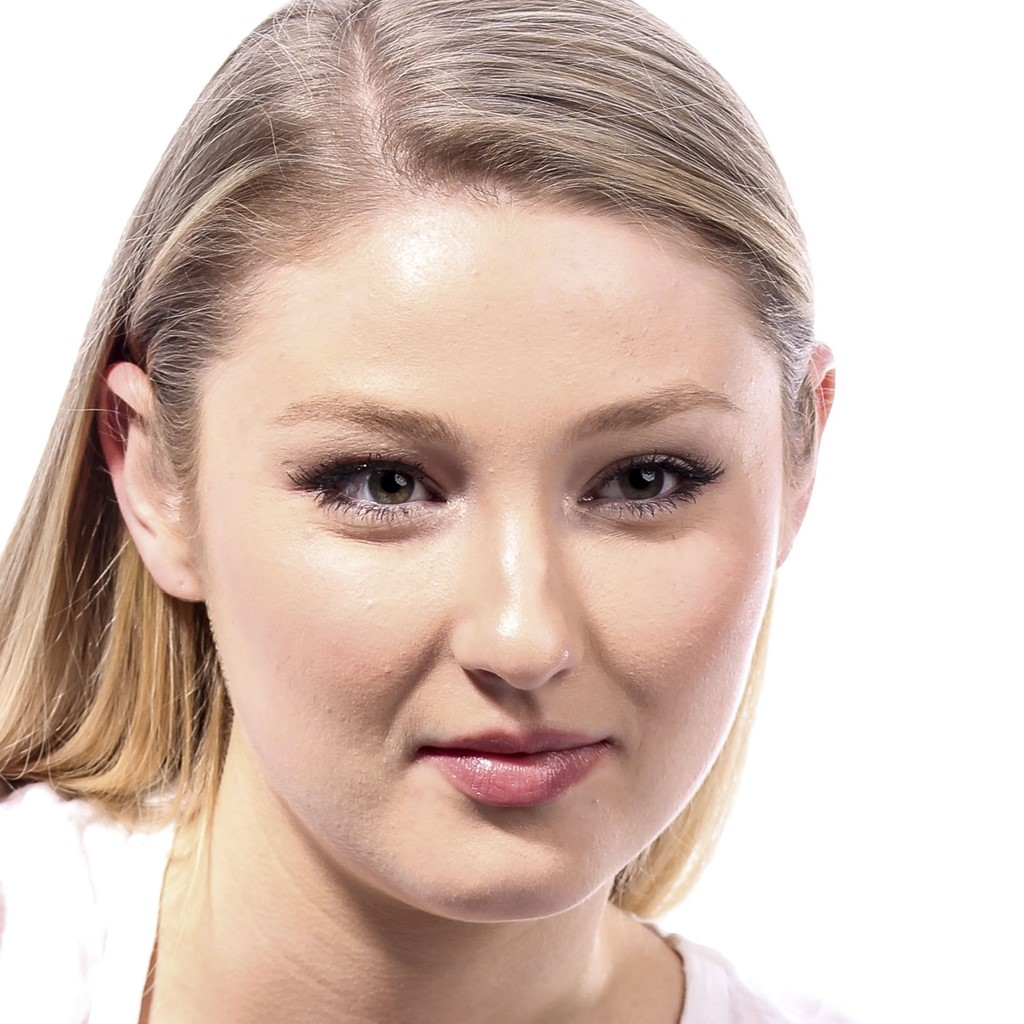sin_mascara: (158, 85, 806, 938)
